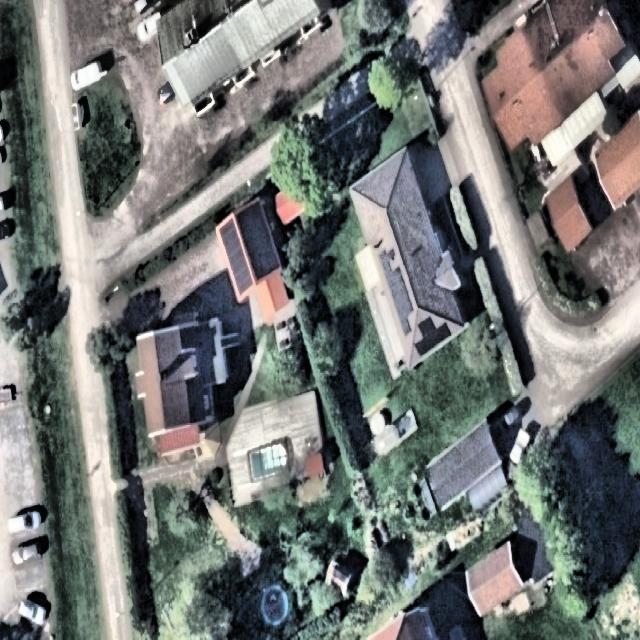roof_pv: (414, 312, 455, 362), (385, 266, 413, 319), (224, 254, 255, 299), (218, 218, 245, 254), (379, 249, 393, 274), (399, 317, 413, 341)
